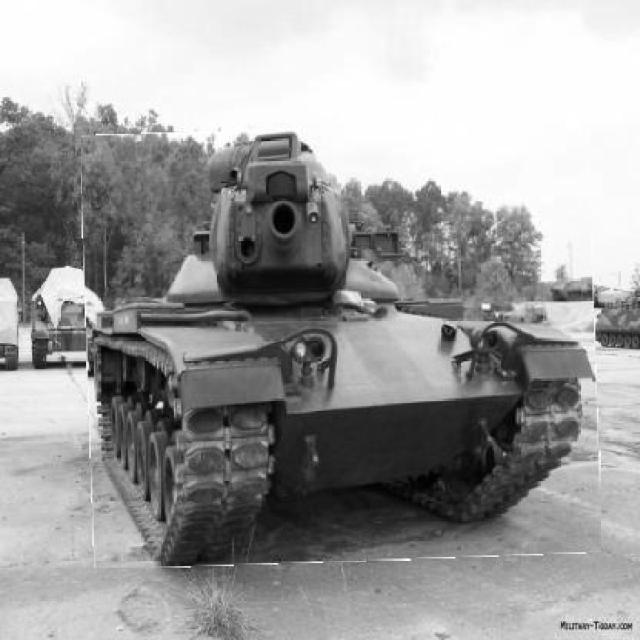Tank: (84, 124, 600, 566)
